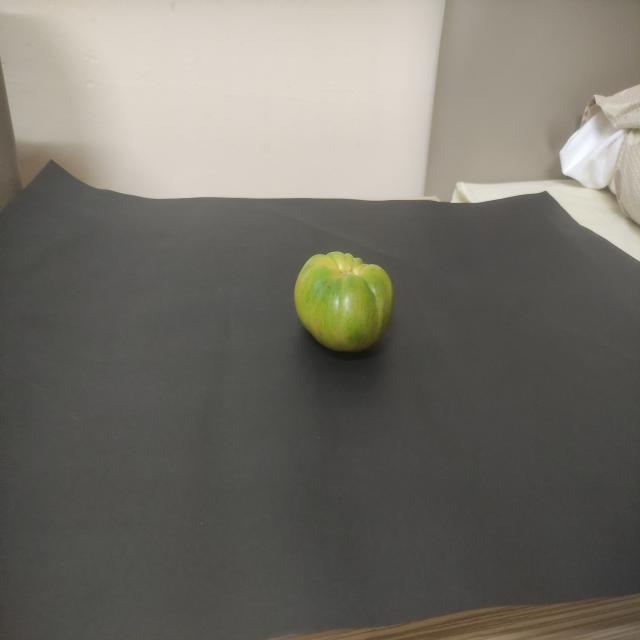yesil: (289, 228, 411, 358)
